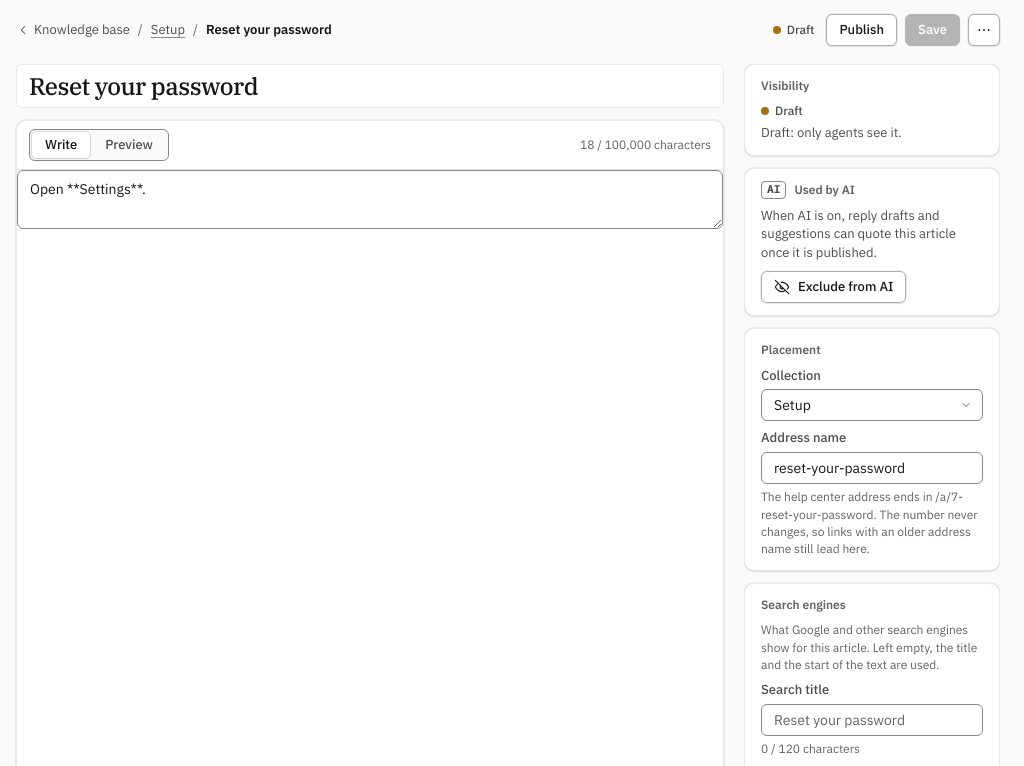
Test: an edit sends only what changed with the version it was made on, and the next save uses the answer's version
This screenshot has width=1024, height=766.
Replace the text in the text box named "Text (Markdown)" with "Open **Settings**, then Security.". click: (370, 199)
box: [17, 170, 723, 229]
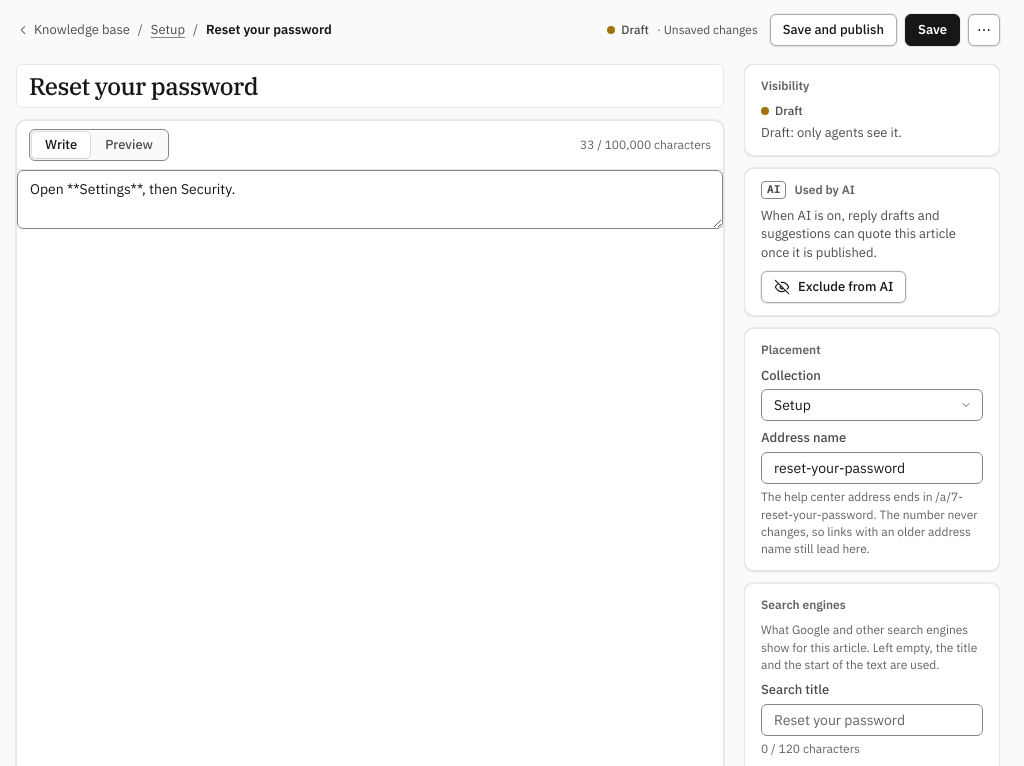
Click the button "Save". click: (932, 30)
box: [905, 14, 960, 46]
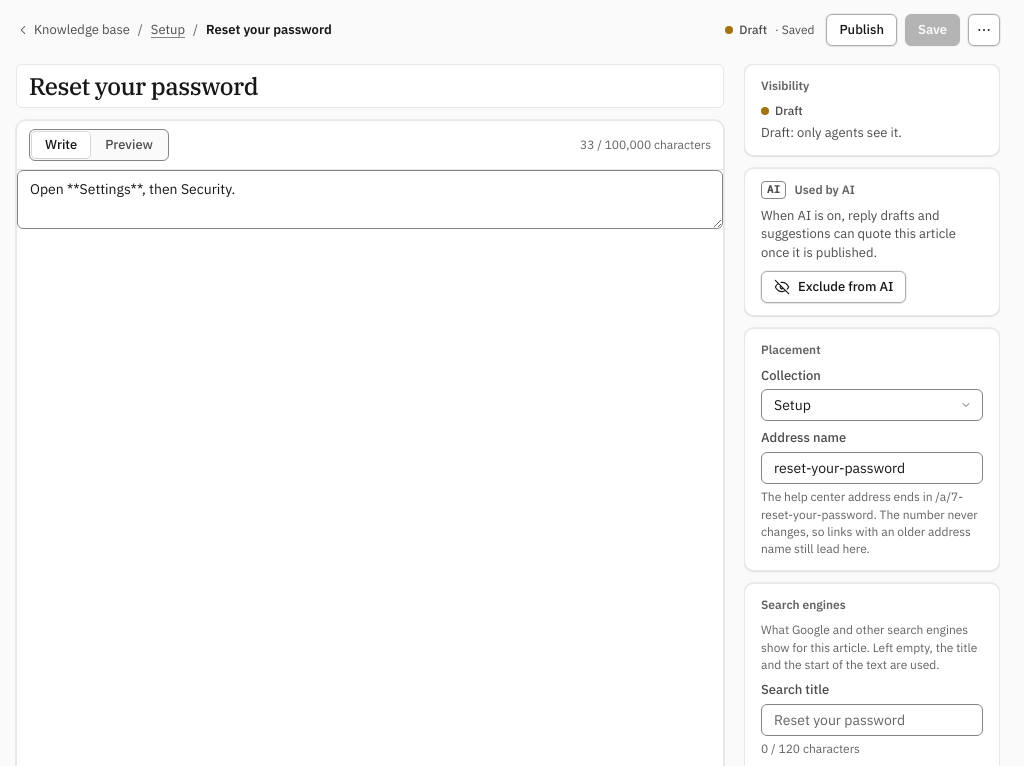
Click the button "Publish". click: (862, 30)
box: [826, 14, 897, 46]
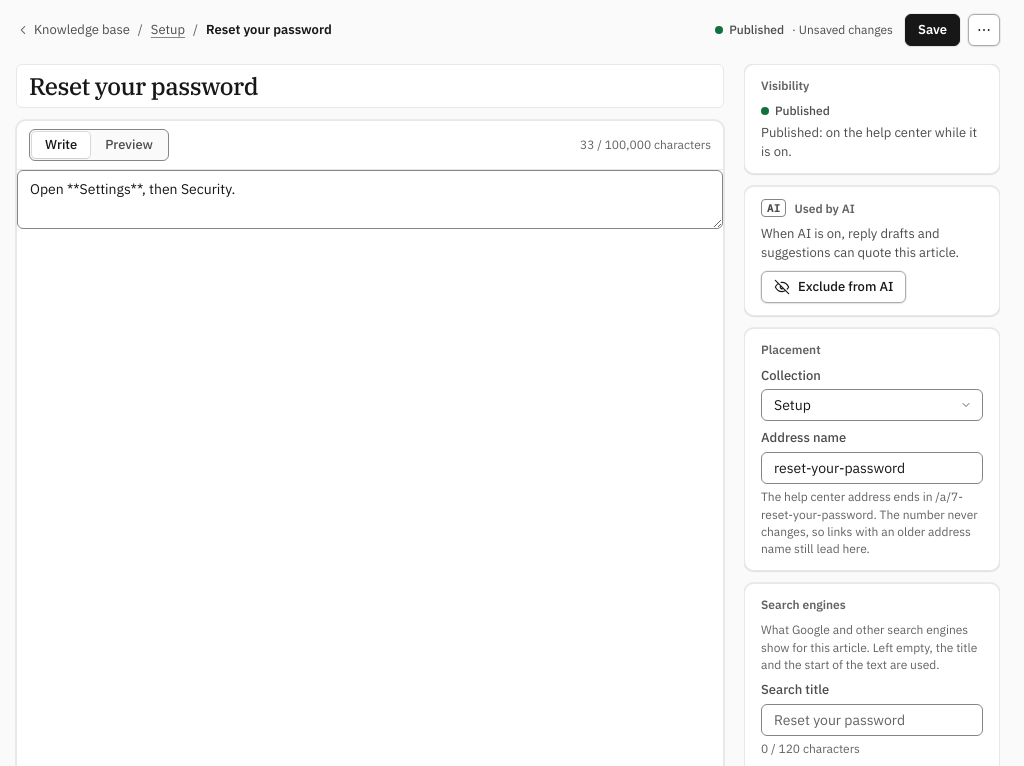
Click the button named "More article actions". click: (984, 30)
box: [968, 14, 1000, 46]
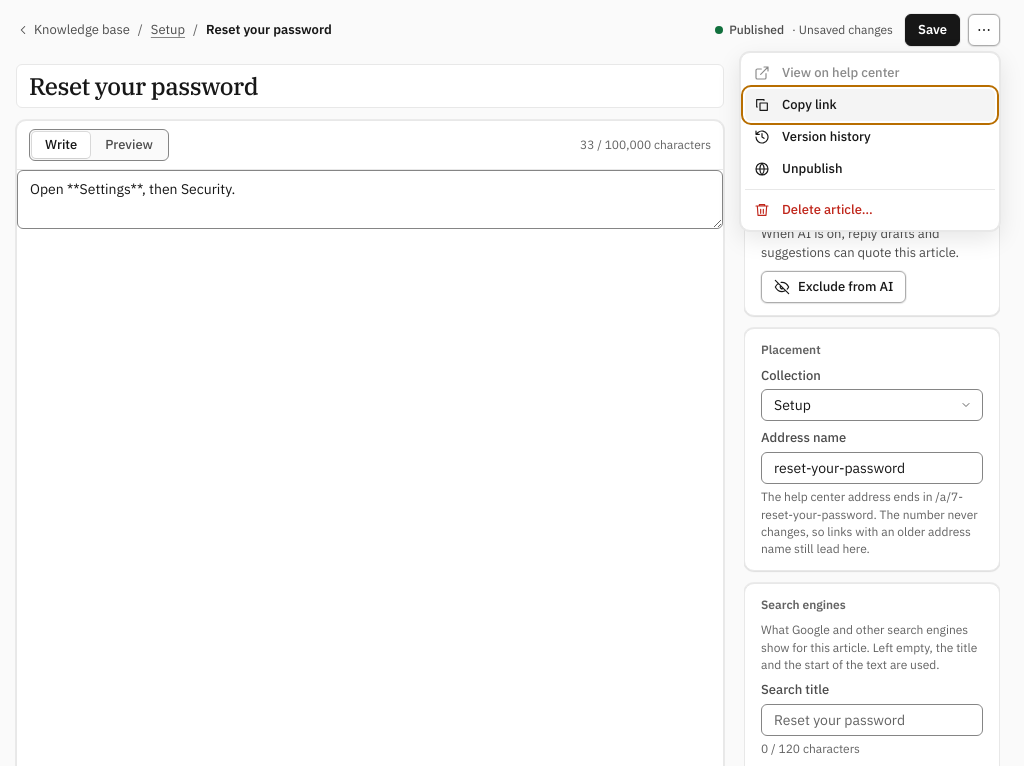
Expected: the menu item "Unpublish" is shown, [745, 153, 995, 185]
